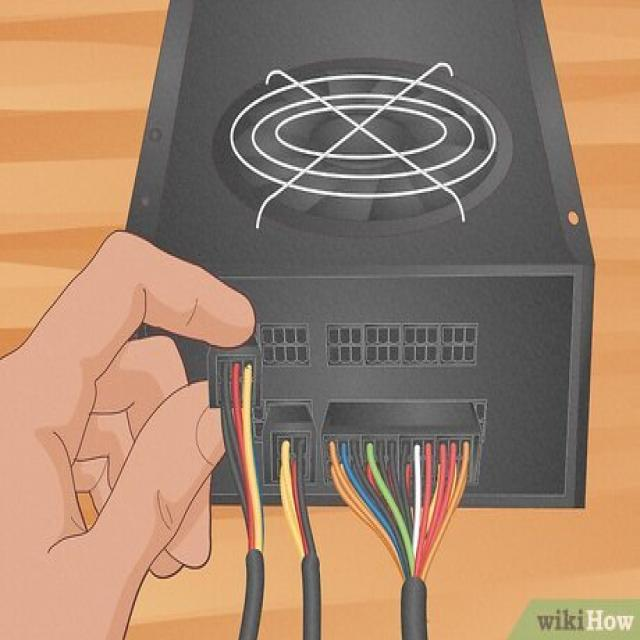electronics: (128, 0, 593, 503), (217, 364, 263, 636), (323, 401, 480, 466), (280, 442, 319, 636), (177, 339, 227, 401), (213, 466, 234, 497), (296, 482, 302, 492), (433, 450, 434, 452)
fans: (330, 442, 467, 636), (223, 362, 263, 636), (280, 440, 319, 636)
